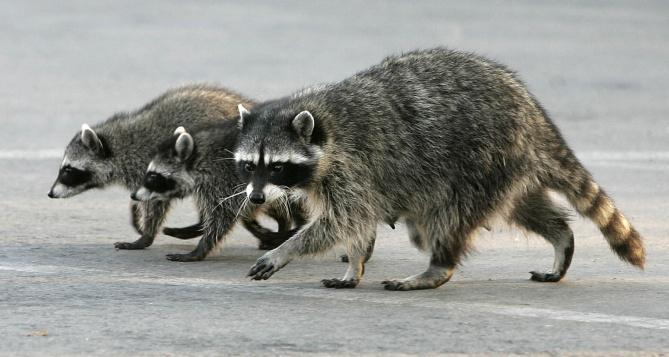raccoon: (233, 45, 647, 290), (47, 84, 258, 250), (128, 101, 239, 265)
